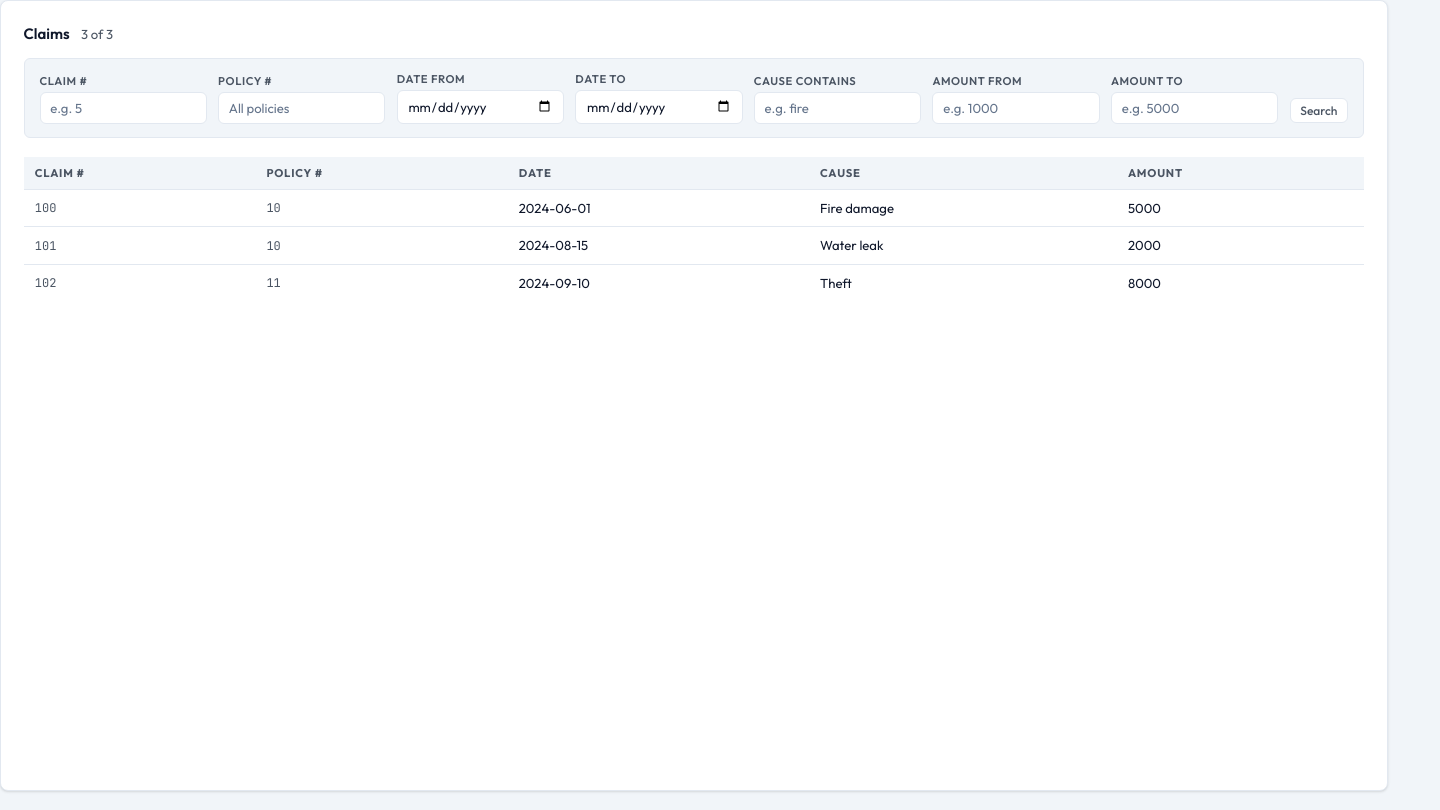
Test: ClaimList – detail panel › clicking a row opens the detail panel and fetches detail
The image size is (1440, 810).
Click the text "Fire damage". click: (963, 208)
box: [809,189,1117,226]
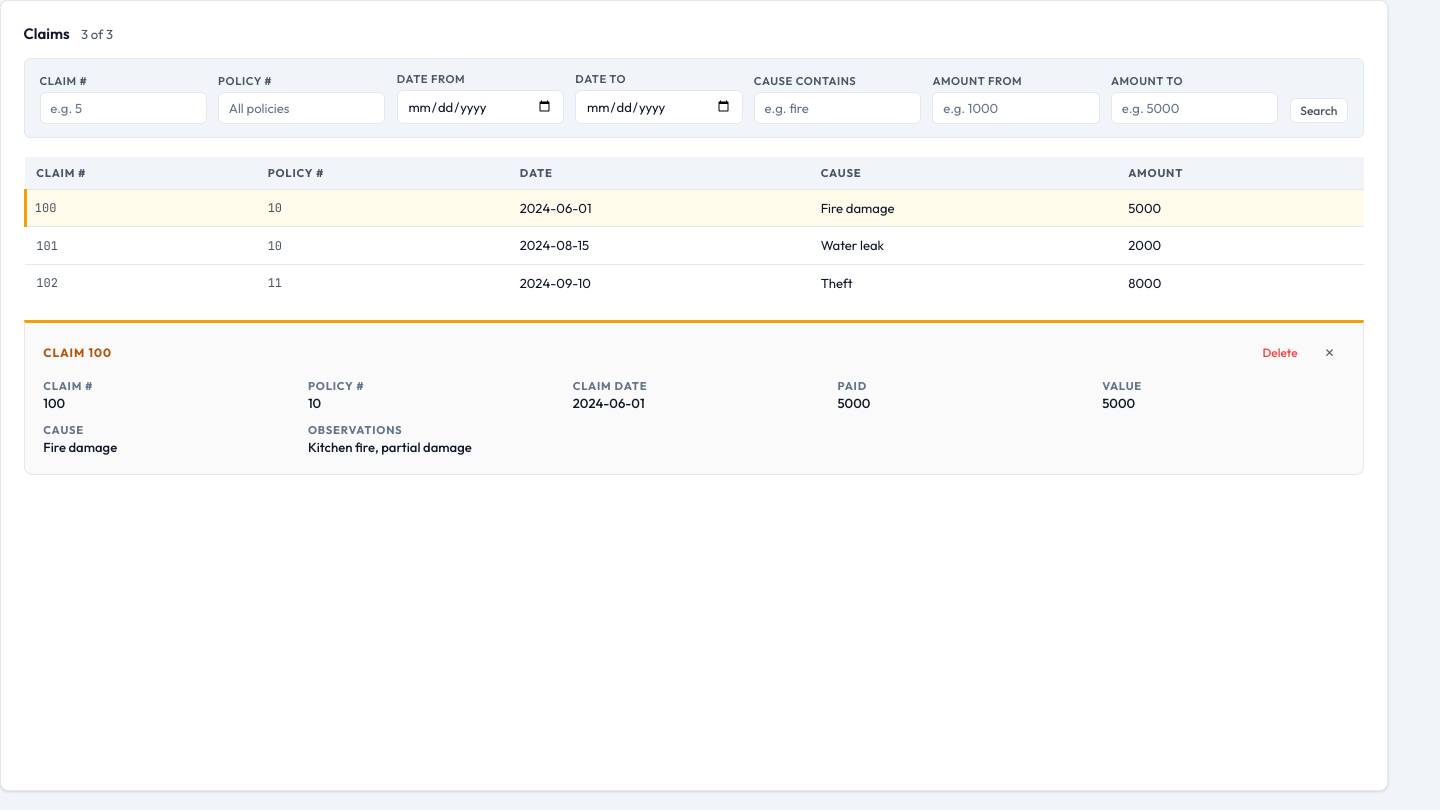
Expected: the text "Claim 100" is shown, [43,345,112,360]
